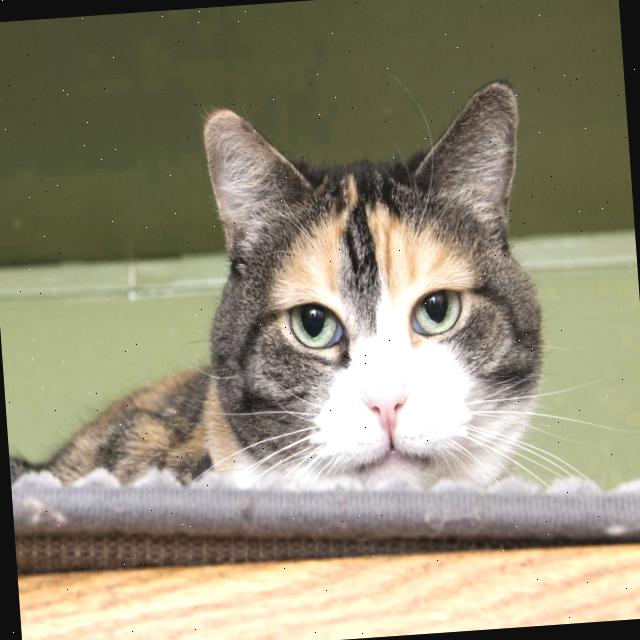calico_cat: (167, 58, 570, 530)
